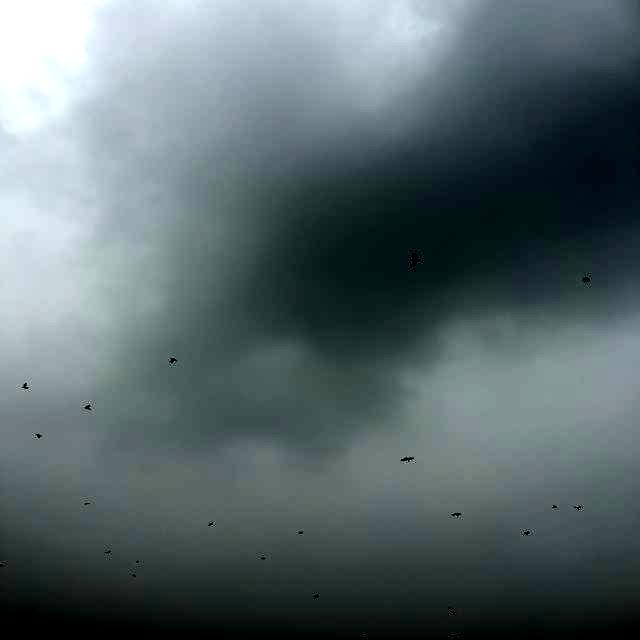bird: (159, 349, 191, 376), (402, 248, 432, 270), (80, 395, 101, 421), (579, 268, 599, 292), (30, 426, 50, 446), (79, 495, 99, 514), (102, 542, 116, 564), (397, 454, 420, 467), (519, 522, 533, 542), (311, 588, 328, 604), (548, 500, 566, 515), (204, 516, 220, 532), (126, 568, 146, 580), (449, 510, 467, 522), (294, 522, 312, 534), (258, 552, 272, 566), (134, 552, 146, 568), (21, 382, 34, 394), (574, 503, 584, 512)
